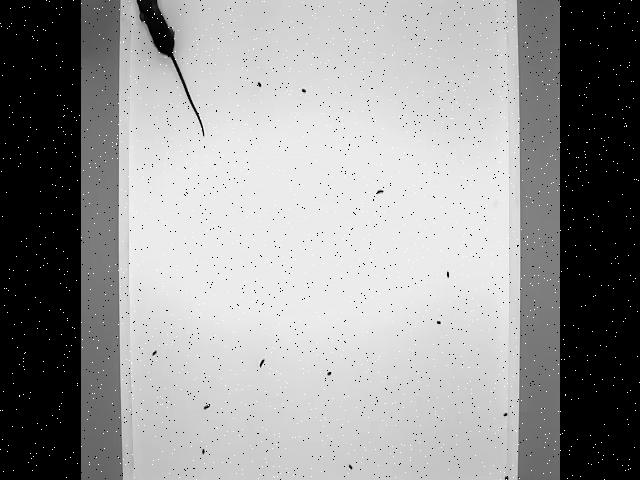Tikus: (126, 0, 209, 142)
